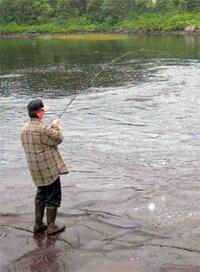person: (21, 100, 66, 236)
